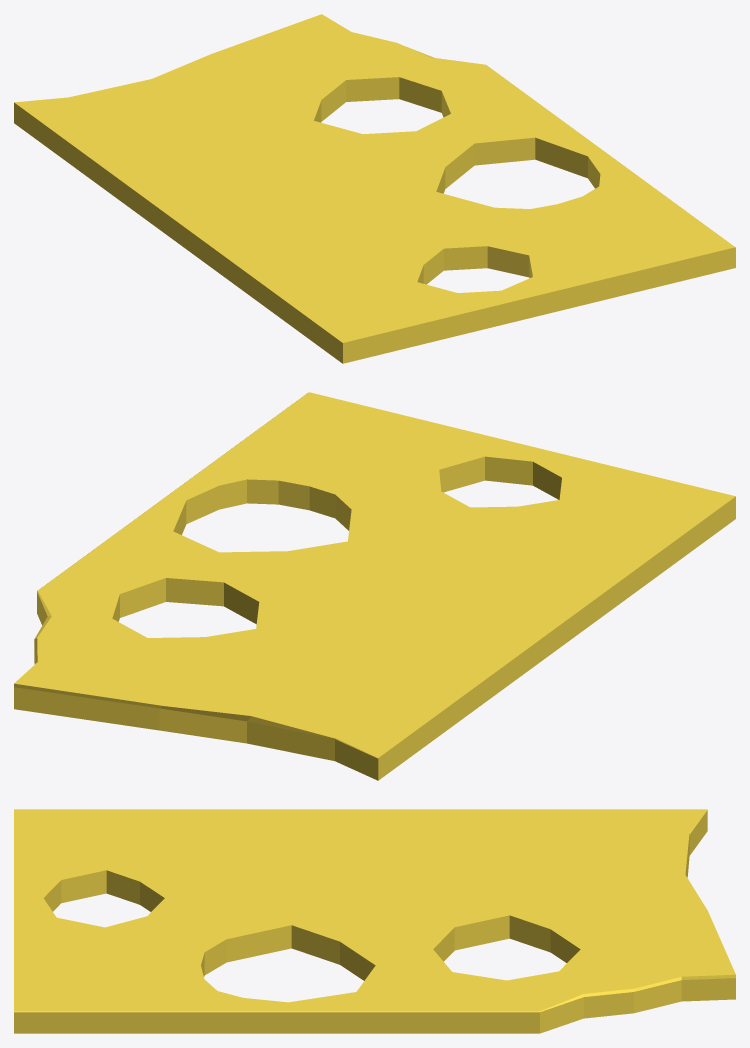
Rendered from gnd_yellow_03.fbx.
3 renders of one model, top to bottom at view 1: azimuth 30°, elevation 25°; view 2: azimuth 150°, elevation 25°; view 3: azimuth 270°, elevation 25°, orthographic. The views are drawn at different scales.
Visible parts, largest first — view 1: gnd_yellow_03; view 2: gnd_yellow_03; view 3: gnd_yellow_03.
Part boxes in pixels (<box>): gnd_yellow_03: <box>14,14,735,363</box>; gnd_yellow_03: <box>14,392,735,780</box>; gnd_yellow_03: <box>14,809,735,1033</box>.
Size of the model in its own units: 7648 by 487 by 11534.
